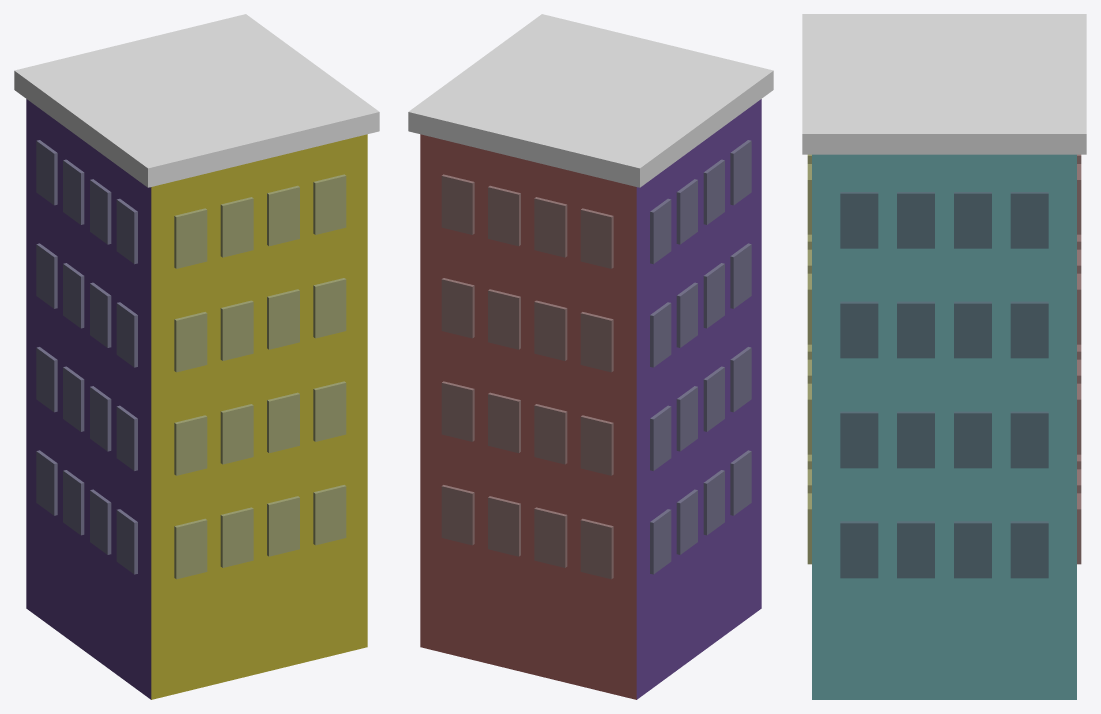
File: Building6.fbx
The picture shows the model from 3 angles, left to right: view 1: azimuth 30°, elevation 25°; view 2: azimuth 150°, elevation 25°; view 3: azimuth 270°, elevation 25°; orthographic projection. The views are drawn at different scales.
Visible parts, largest first — view 1: Plane.001; view 2: Plane.001; view 3: Plane.001.
Part boxes in pixels (x1,y1,x2,y2): Plane.001: [14, 14, 379, 699]; Plane.001: [408, 14, 773, 699]; Plane.001: [802, 14, 1086, 699].
Size of the model in its own units: 375 by 830 by 375.
